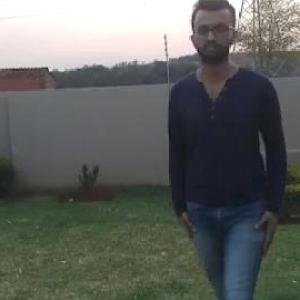follow: (179, 14, 274, 299)
